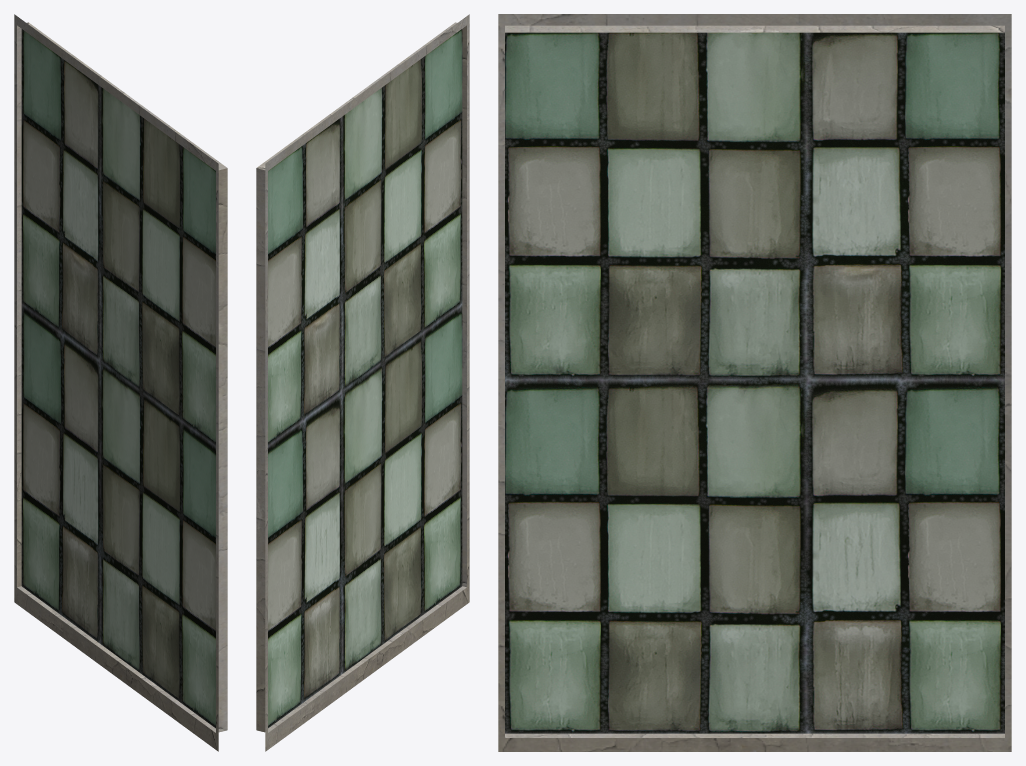
The model's file is Window_Big.fbx.
3 renders of one model, left to right at view 1: azimuth 30°, elevation 25°; view 2: azimuth 150°, elevation 25°; view 3: azimuth 270°, elevation 25°, orthographic. The views are drawn at different scales.
Visible parts, largest first — view 1: Window_Big; view 2: Window_Big; view 3: Window_Big.
Part boxes in pixels (bbox=[...]): Window_Big: bbox=[14, 14, 227, 751]; Window_Big: bbox=[256, 14, 469, 751]; Window_Big: bbox=[498, 14, 1011, 751].
Size of the model in its own units: 0.0406 by 1.94 by 1.23.
